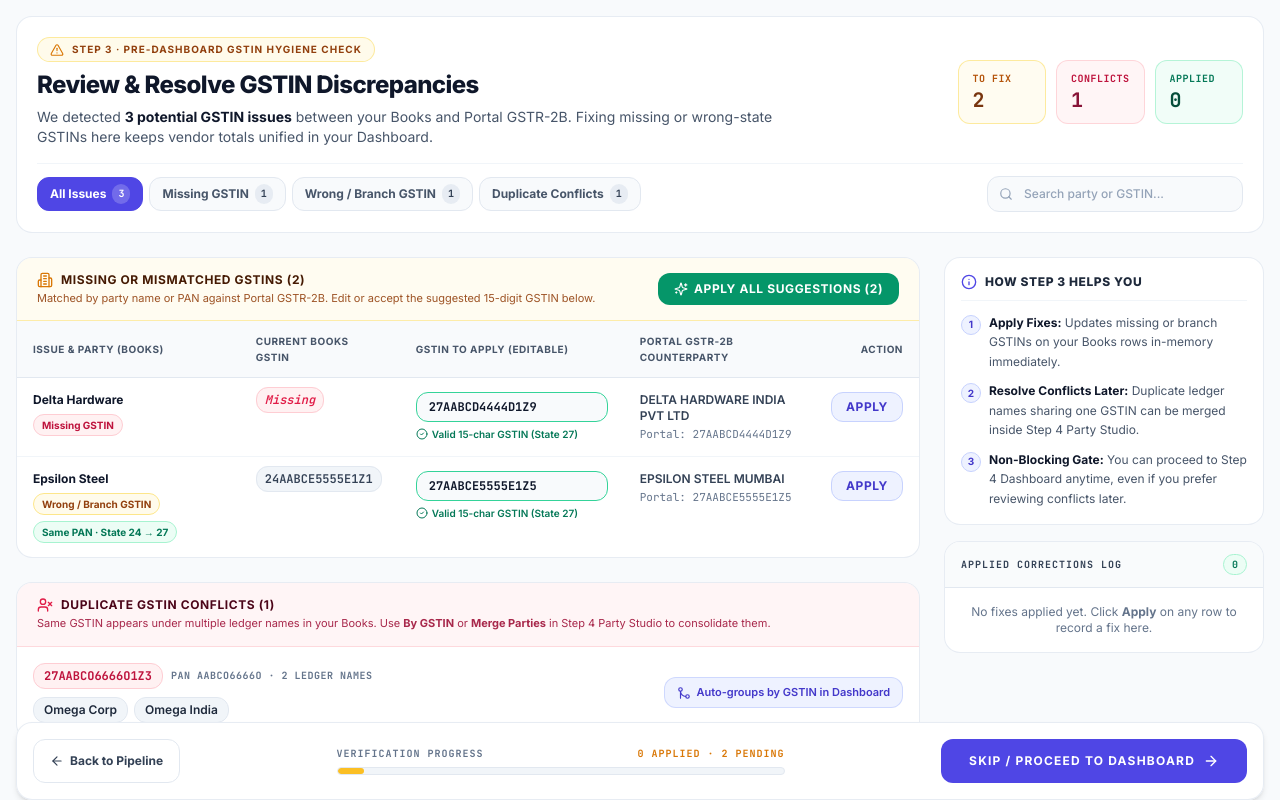
Step 3: GSTVerification UI › filters GSTIN issues, highlights same-PAN branch mismatch, and applies suggestions
Later steps or results of the test are not shown.
Expected: the text "Delta Hardware" is shown, x1=33 y1=392 x2=124 y2=407
Expected: the text "Epsilon Steel" is shown, x1=33 y1=471 x2=108 y2=486
// Filter to Wrong / Branch GSTIN only
Step 1. Click the button "Wrong / Branch GSTIN 1" → (382, 194), box x1=292 y1=176 x2=473 y2=210
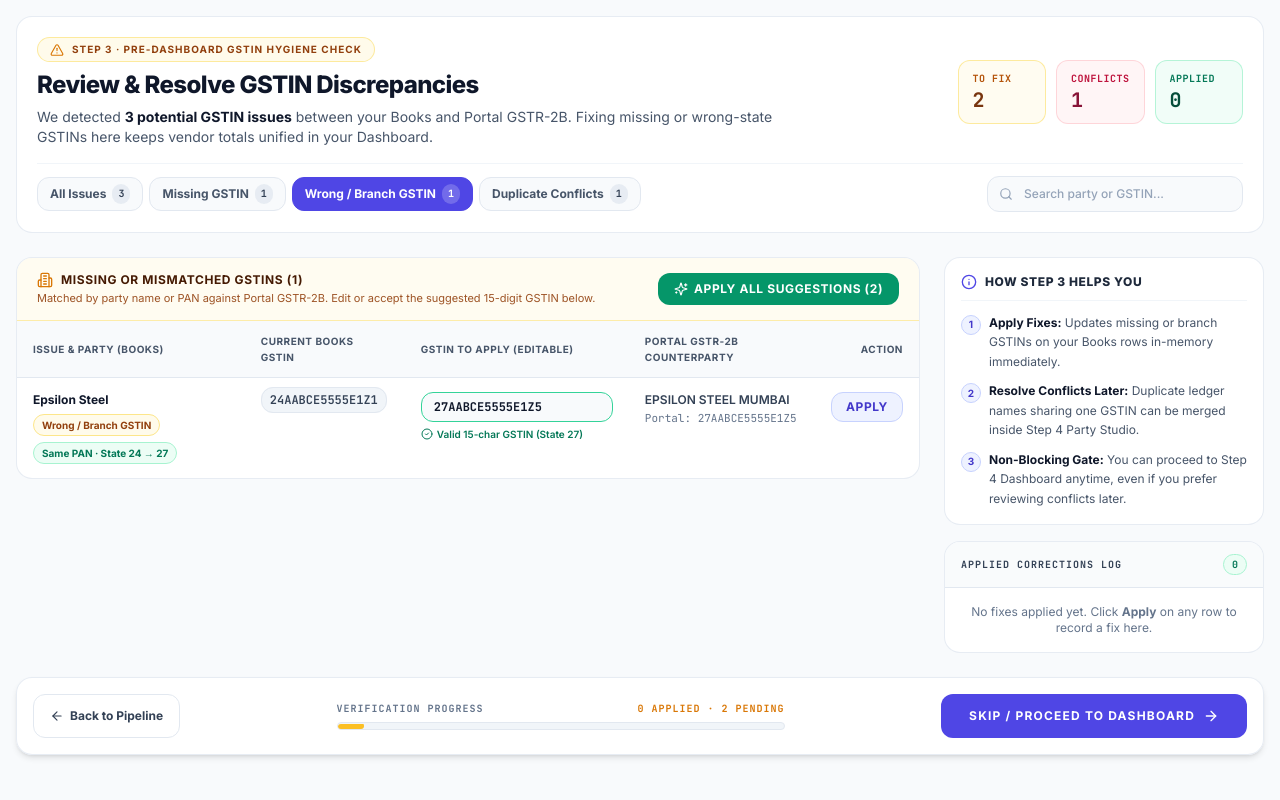
Expected: the text "Epsilon Steel" is shown, x1=33 y1=392 x2=108 y2=407
Expected: the text "Delta Hardware" is gone
